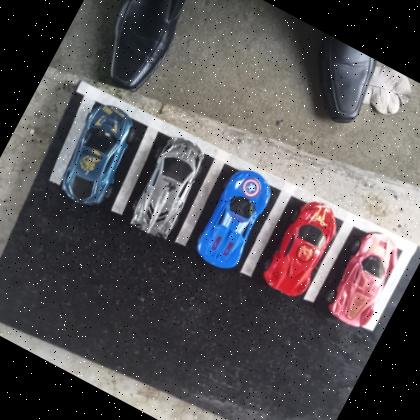Car: (50, 99, 143, 212), (122, 131, 214, 245), (188, 163, 280, 276), (319, 224, 410, 334), (256, 193, 346, 304)
